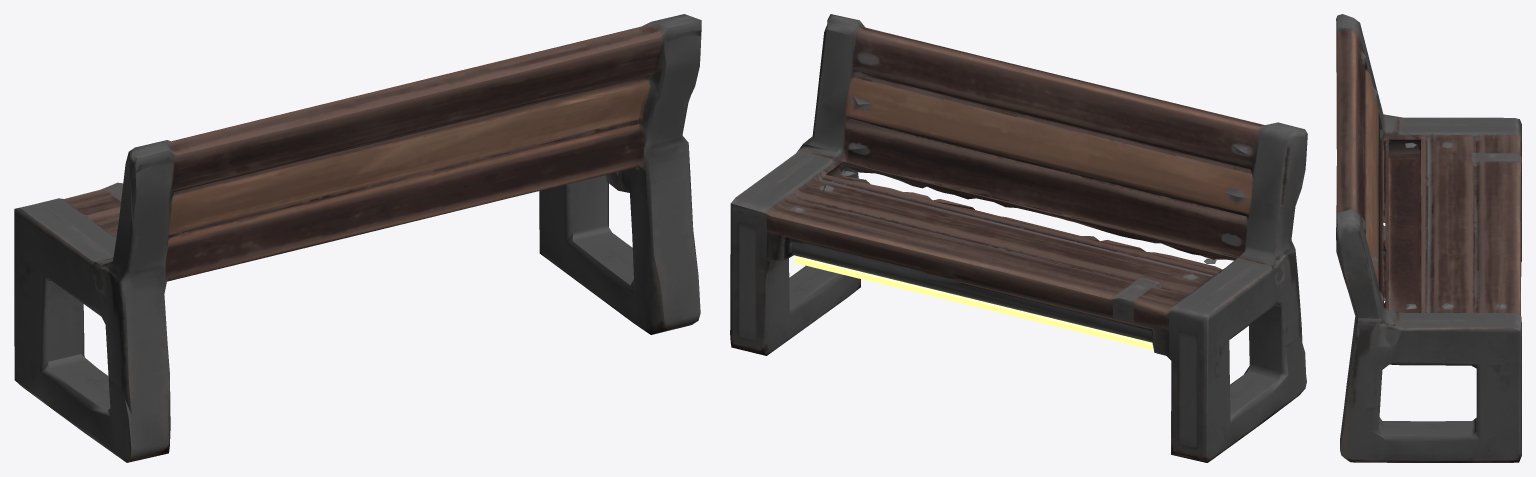
File: seat_bench_v2.glb
The picture shows the model from 3 angles, left to right: view 1: azimuth 30°, elevation 25°; view 2: azimuth 150°, elevation 25°; view 3: azimuth 270°, elevation 25°; orthographic projection. The views are drawn at different scales.
Parts seen in each view (by area): view 1: body; view 2: body, lights; view 3: body.
Boxes of the visible parts, x1=… form: body: x1=14, y1=14, x2=701, y2=462; body: x1=730, y1=14, x2=1307, y2=462; lights: x1=794, y1=256, x2=1153, y2=350; body: x1=1336, y1=14, x2=1521, y2=462.
Size of the model in its own units: 1.6 by 0.847 by 0.592.
Materials: 2 (1 with a texture image).
